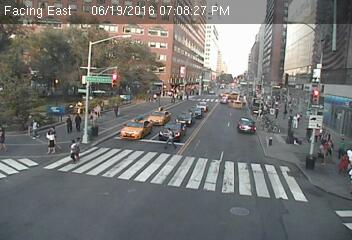neg: (290, 59, 308, 83), (222, 149, 234, 166), (114, 174, 125, 190), (261, 49, 271, 63), (201, 47, 211, 60), (196, 171, 202, 180)
pos: (161, 127, 179, 151), (61, 115, 76, 134), (72, 112, 86, 132), (110, 101, 124, 120), (272, 105, 284, 121)
